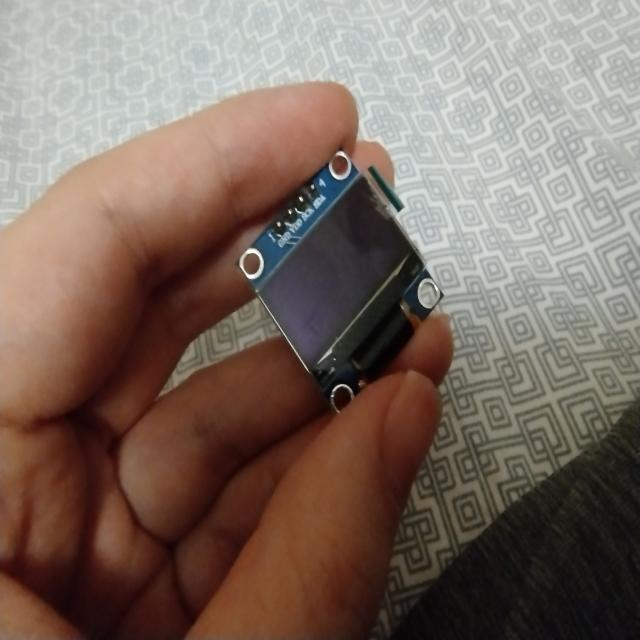oled: (232, 142, 456, 416)
